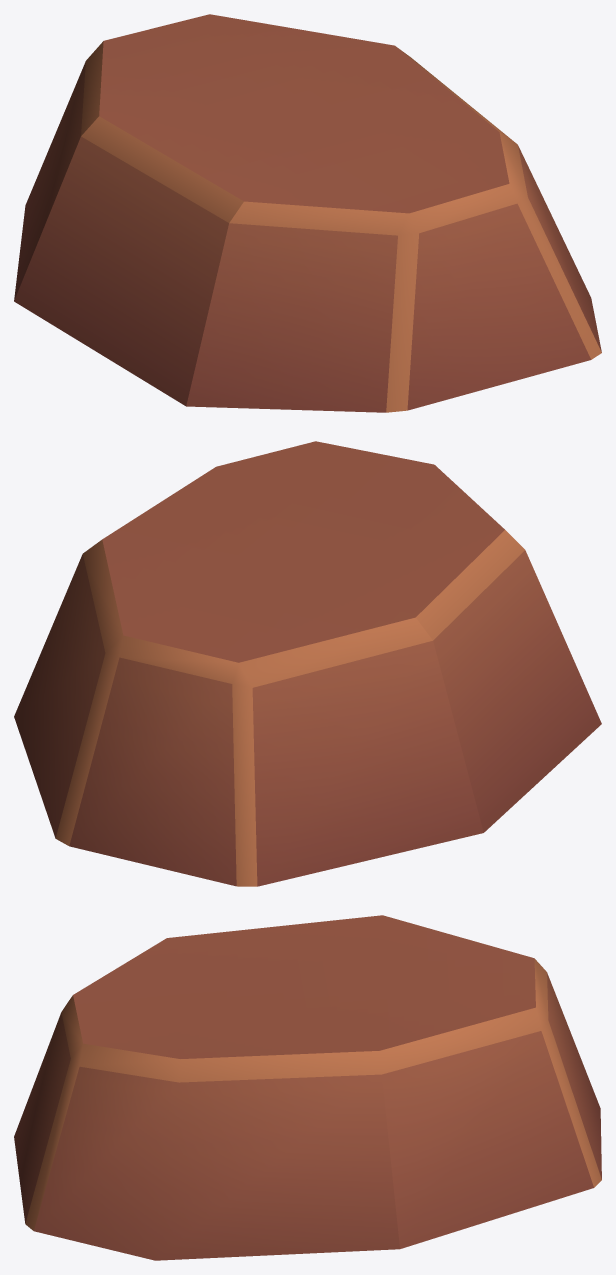
File: Rock-2-8.fbx
The picture shows the model from 3 angles, top to bottom: view 1: azimuth 30°, elevation 25°; view 2: azimuth 150°, elevation 25°; view 3: azimuth 270°, elevation 25°; orthographic projection. The views are drawn at different scales.
Parts seen in each view (by area): view 1: Rock-2-8; view 2: Rock-2-8; view 3: Rock-2-8.
Boxes of the visible parts, left/top/right/bottom form: Rock-2-8: left=14, top=14, right=601, bottom=412; Rock-2-8: left=14, top=441, right=601, bottom=886; Rock-2-8: left=14, top=915, right=601, bottom=1260.
Size of the model in its own units: 58.82 by 23.22 by 71.06.
